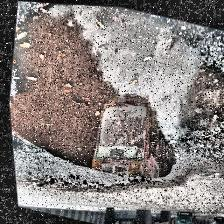pothole: (0, 0, 224, 218)
